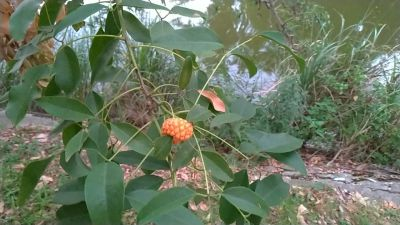eggs: (162, 115, 192, 141)
